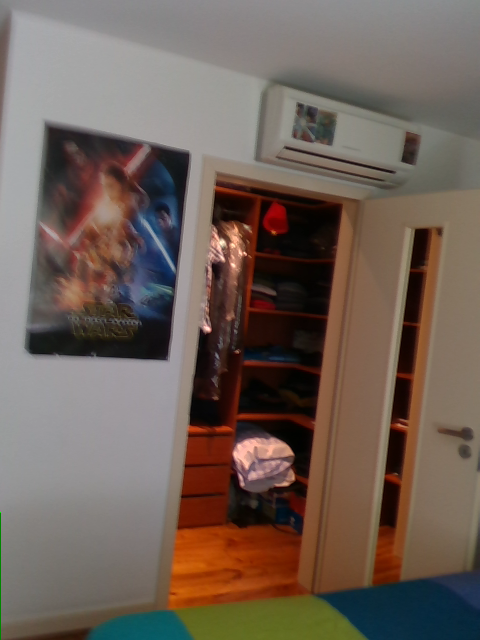open: (152, 155, 479, 618)
